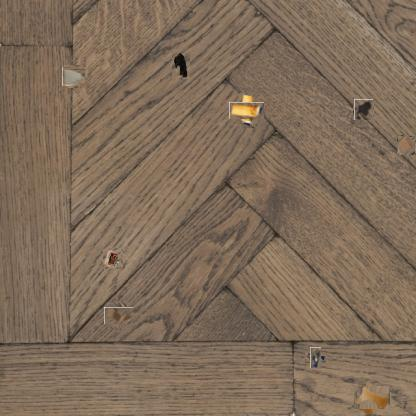dirty: (233, 98, 260, 124), (107, 304, 130, 327), (172, 53, 190, 79), (63, 66, 85, 87), (102, 248, 122, 268), (397, 135, 415, 156), (307, 349, 324, 366)
liquid: (357, 382, 387, 412), (353, 100, 374, 120)
